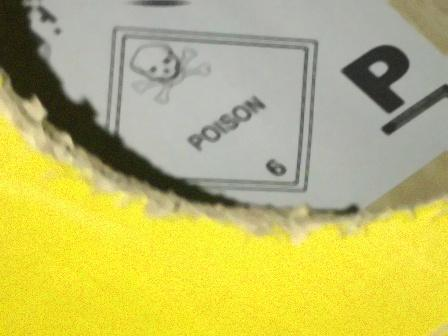poison: (96, 16, 323, 191)
